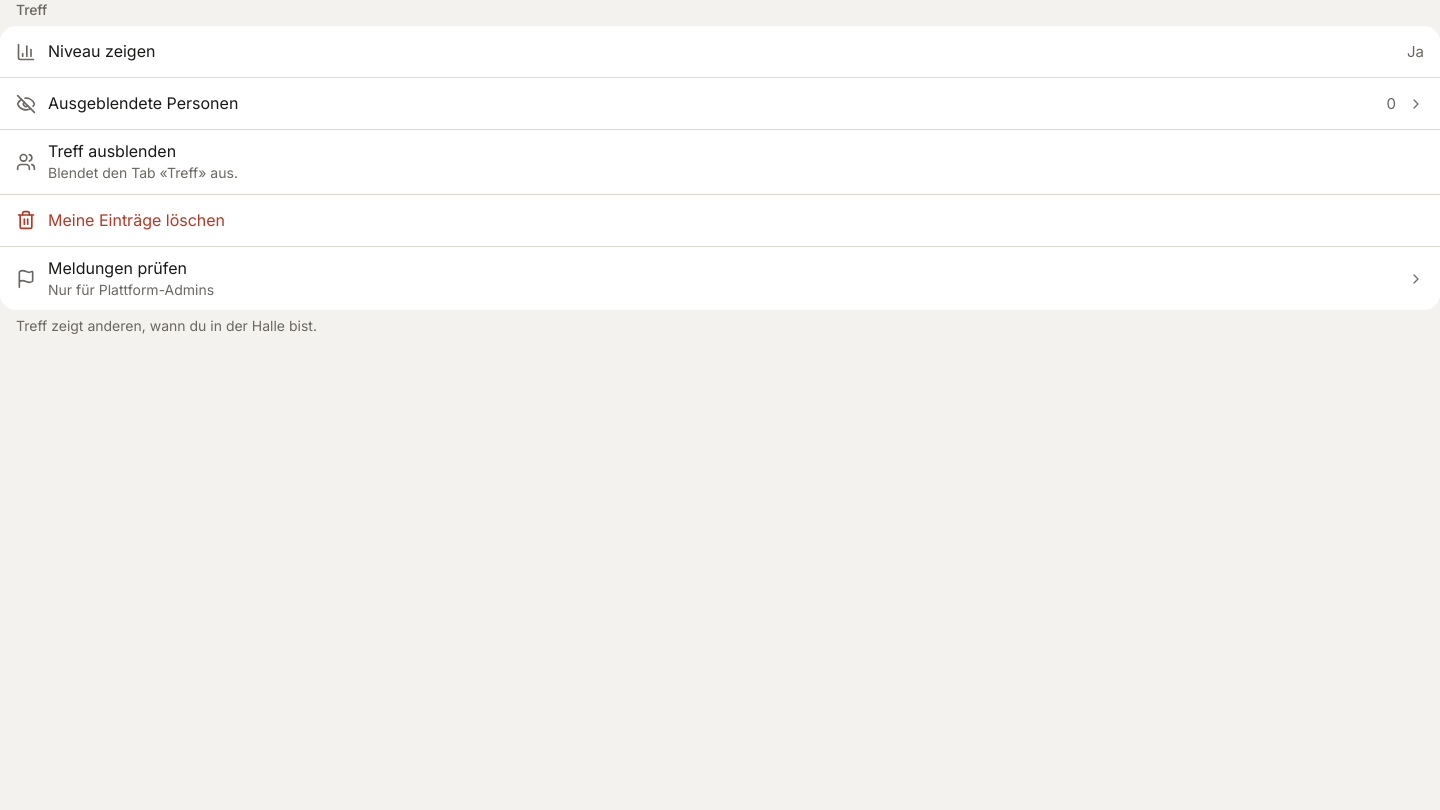
SPEC-028 Treff – Oberfläche › AC-9: Plattform-Admin prüft Meldungen und löscht den Eintrag
This screenshot has width=1440, height=810.
Click the button with test id "settings-treff-reports": click(117, 268) [0,247,1439,310]
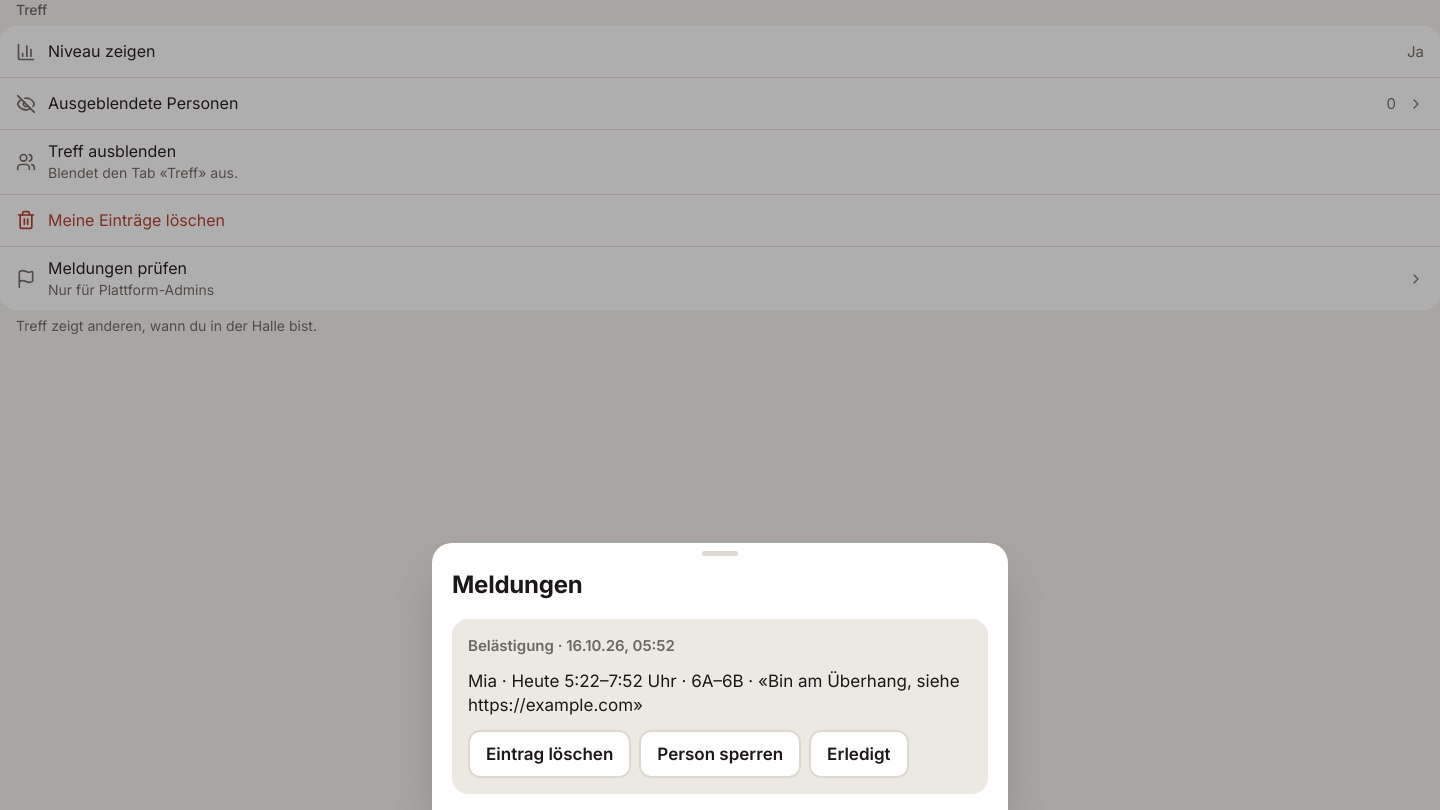
Expected: the text "Belästigung · 16.10.26, 05:52" is shown, [468,636,675,655]
Click the button "Eintrag löschen": click(550, 754) [468,730,631,778]
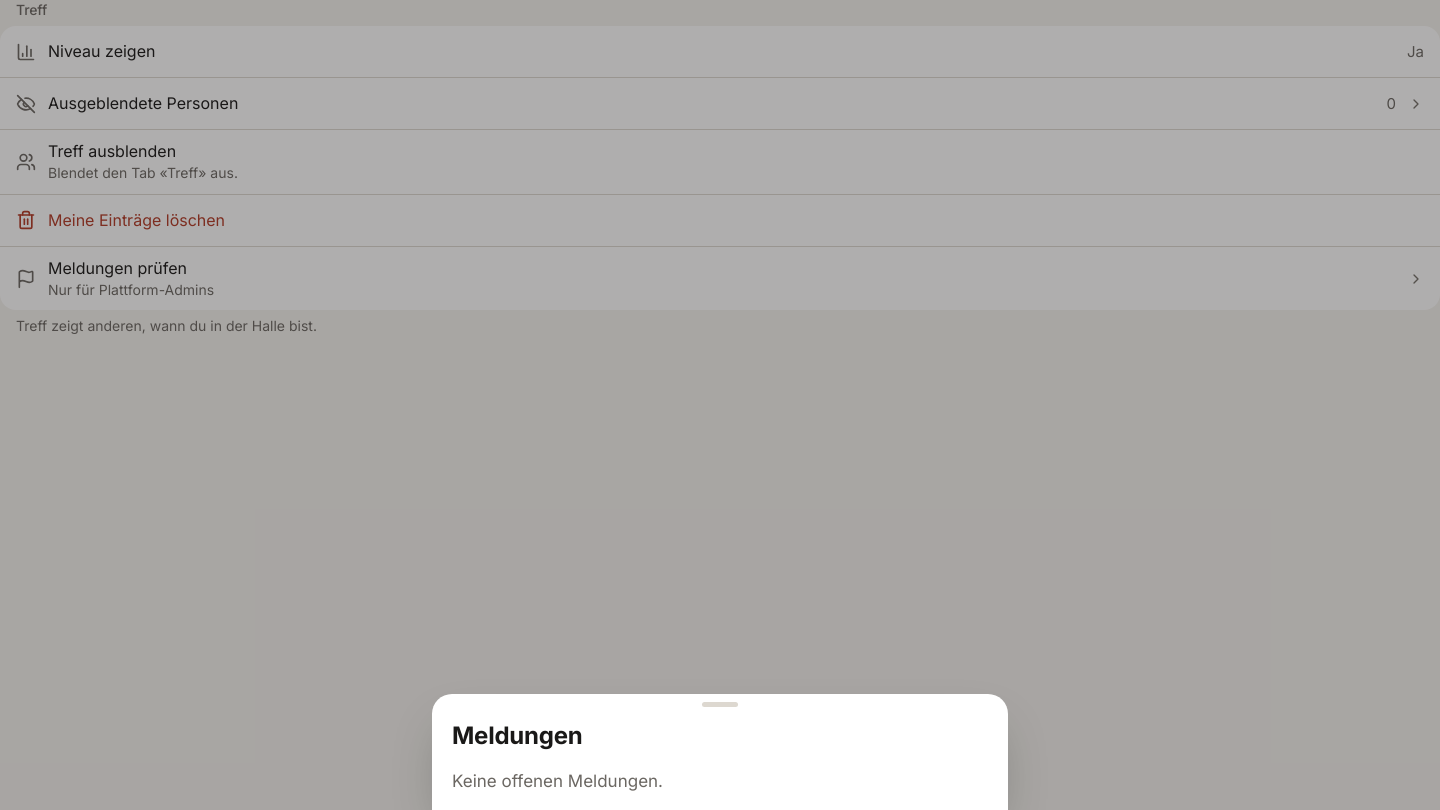
Expected: the text "Keine offenen Meldungen." is shown, [452,771,663,791]
